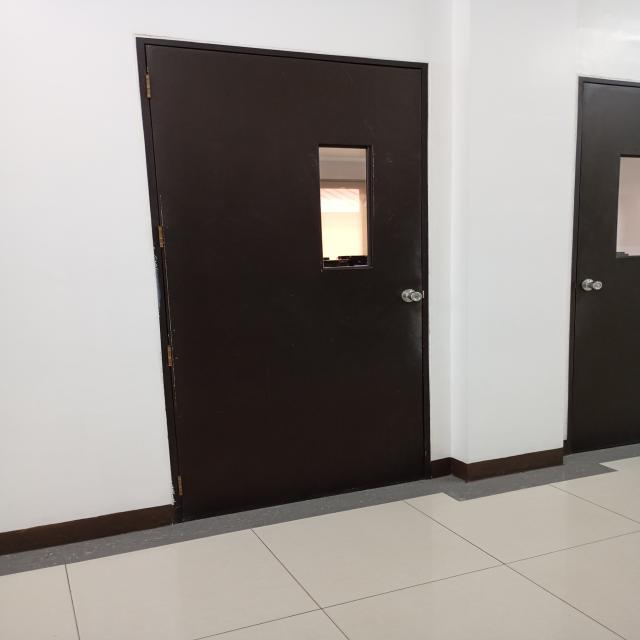door: (111, 22, 462, 539)
